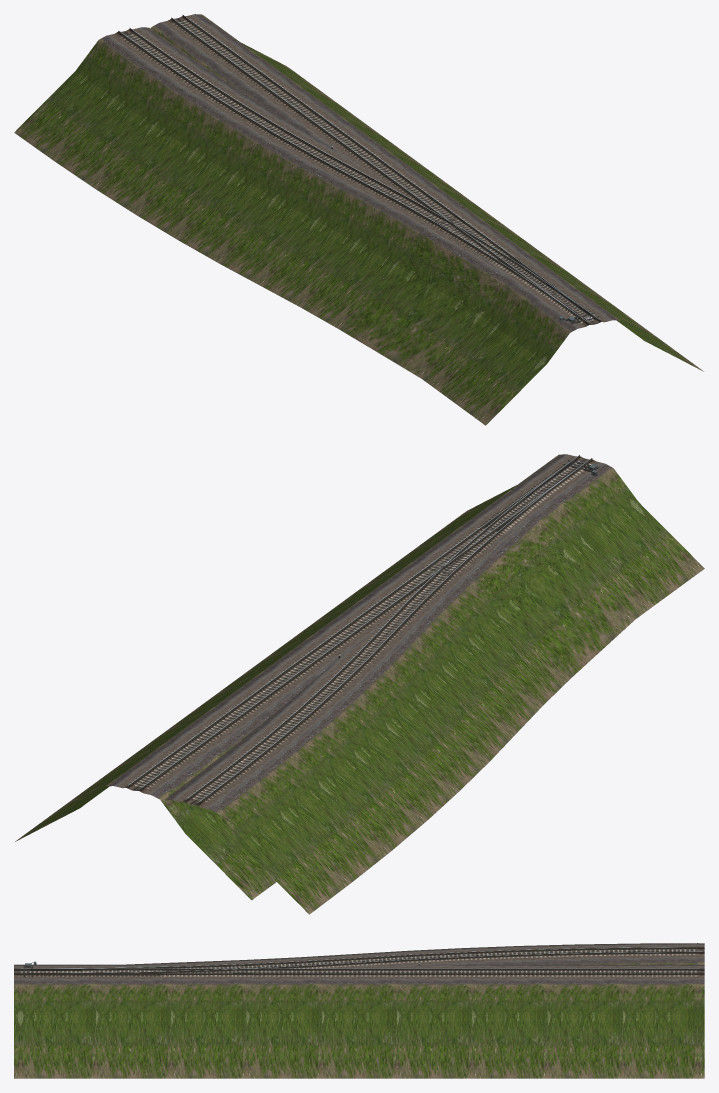
The model's file is tracks_1track1-2.gltf.
3 renders of one model, top to bottom at view 1: azimuth 30°, elevation 25°; view 2: azimuth 150°, elevation 25°; view 3: azimuth 270°, elevation 25°, orthographic. The views are drawn at different scales.
Visible parts, largest first — view 1: tracks_1track1-2; view 2: tracks_1track1-2; view 3: tracks_1track1-2.
Part boxes in pixels (x1=…): tracks_1track1-2: x1=14, y1=14, x2=703, y2=425; tracks_1track1-2: x1=15, y1=454, x2=704, y2=914; tracks_1track1-2: x1=14, y1=943, x2=704, y2=1078.
Bounding box in the file's own units: 38.4 × 10.63 × 102.
Materials: 1 (1 with a texture image).
